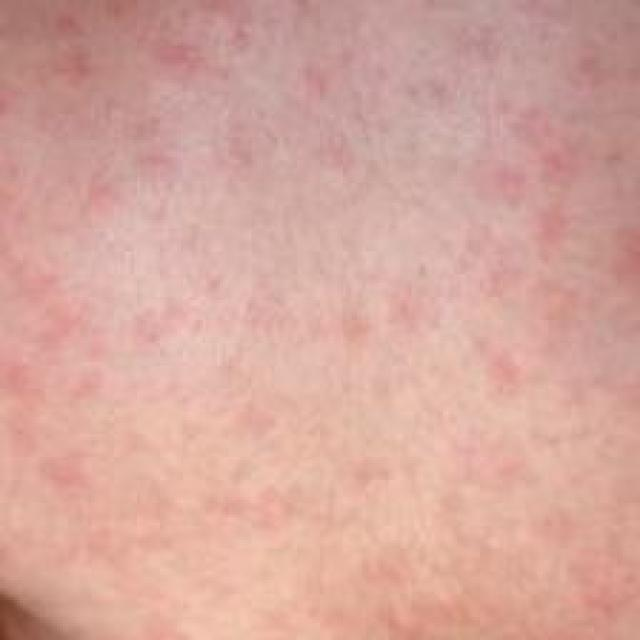others: (0, 8, 637, 640)
